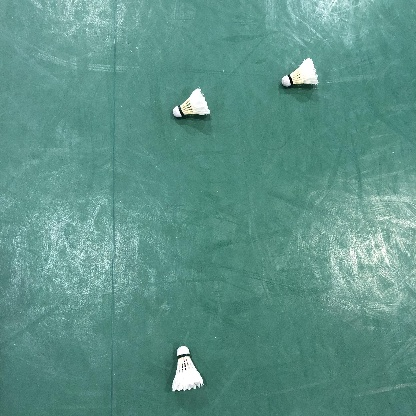ball_single: (172, 346, 204, 391), (173, 87, 210, 117), (281, 58, 319, 87)
